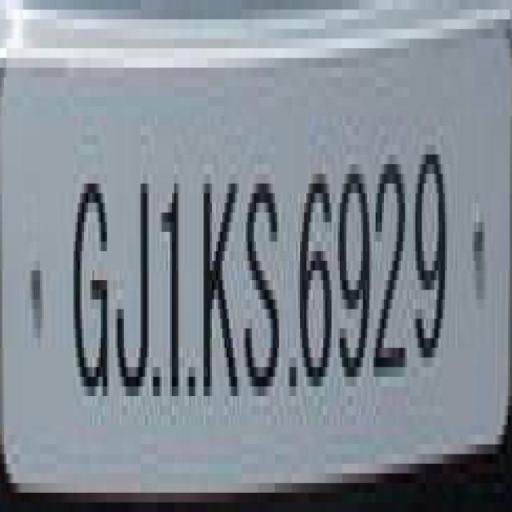number plate: (18, 0, 511, 512)
